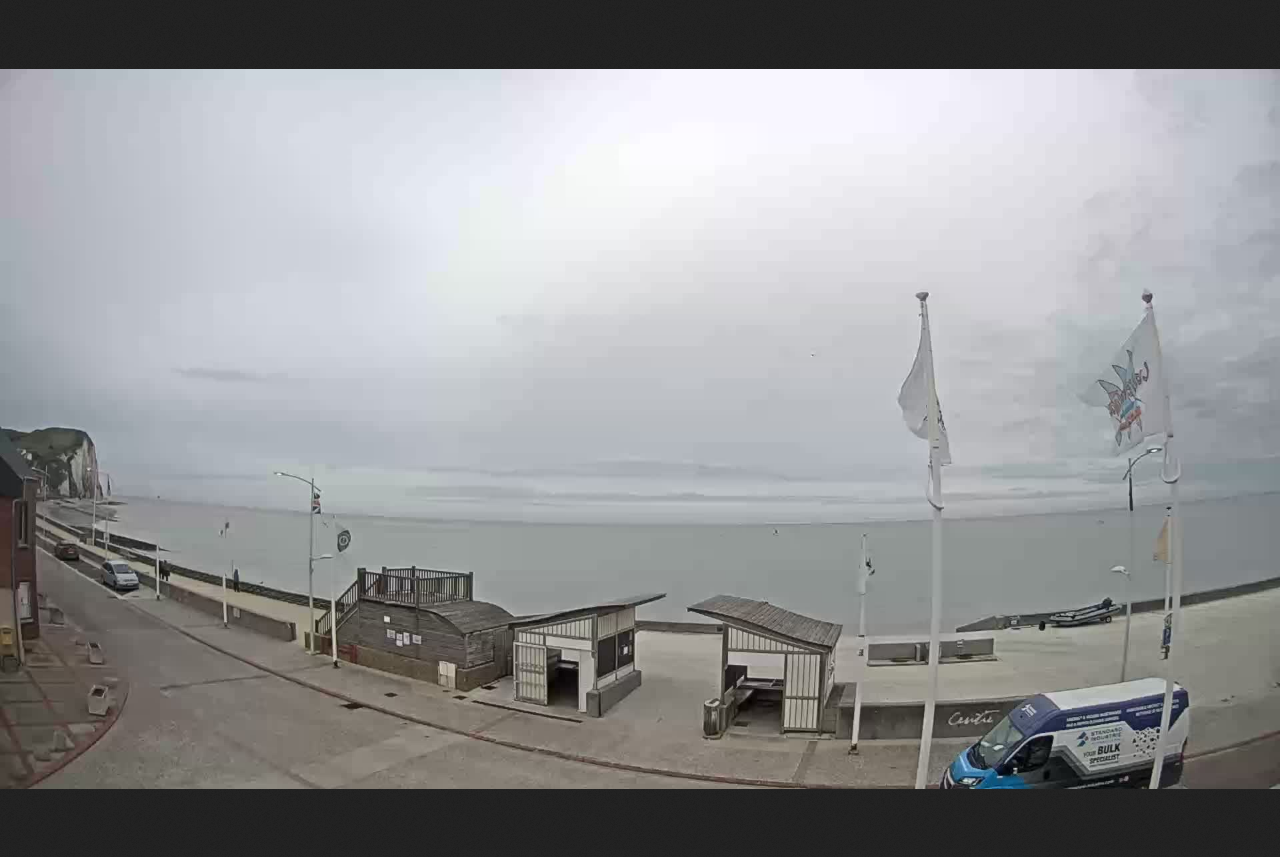maybe: (1077, 286, 1190, 511)
no: (894, 277, 978, 520)
